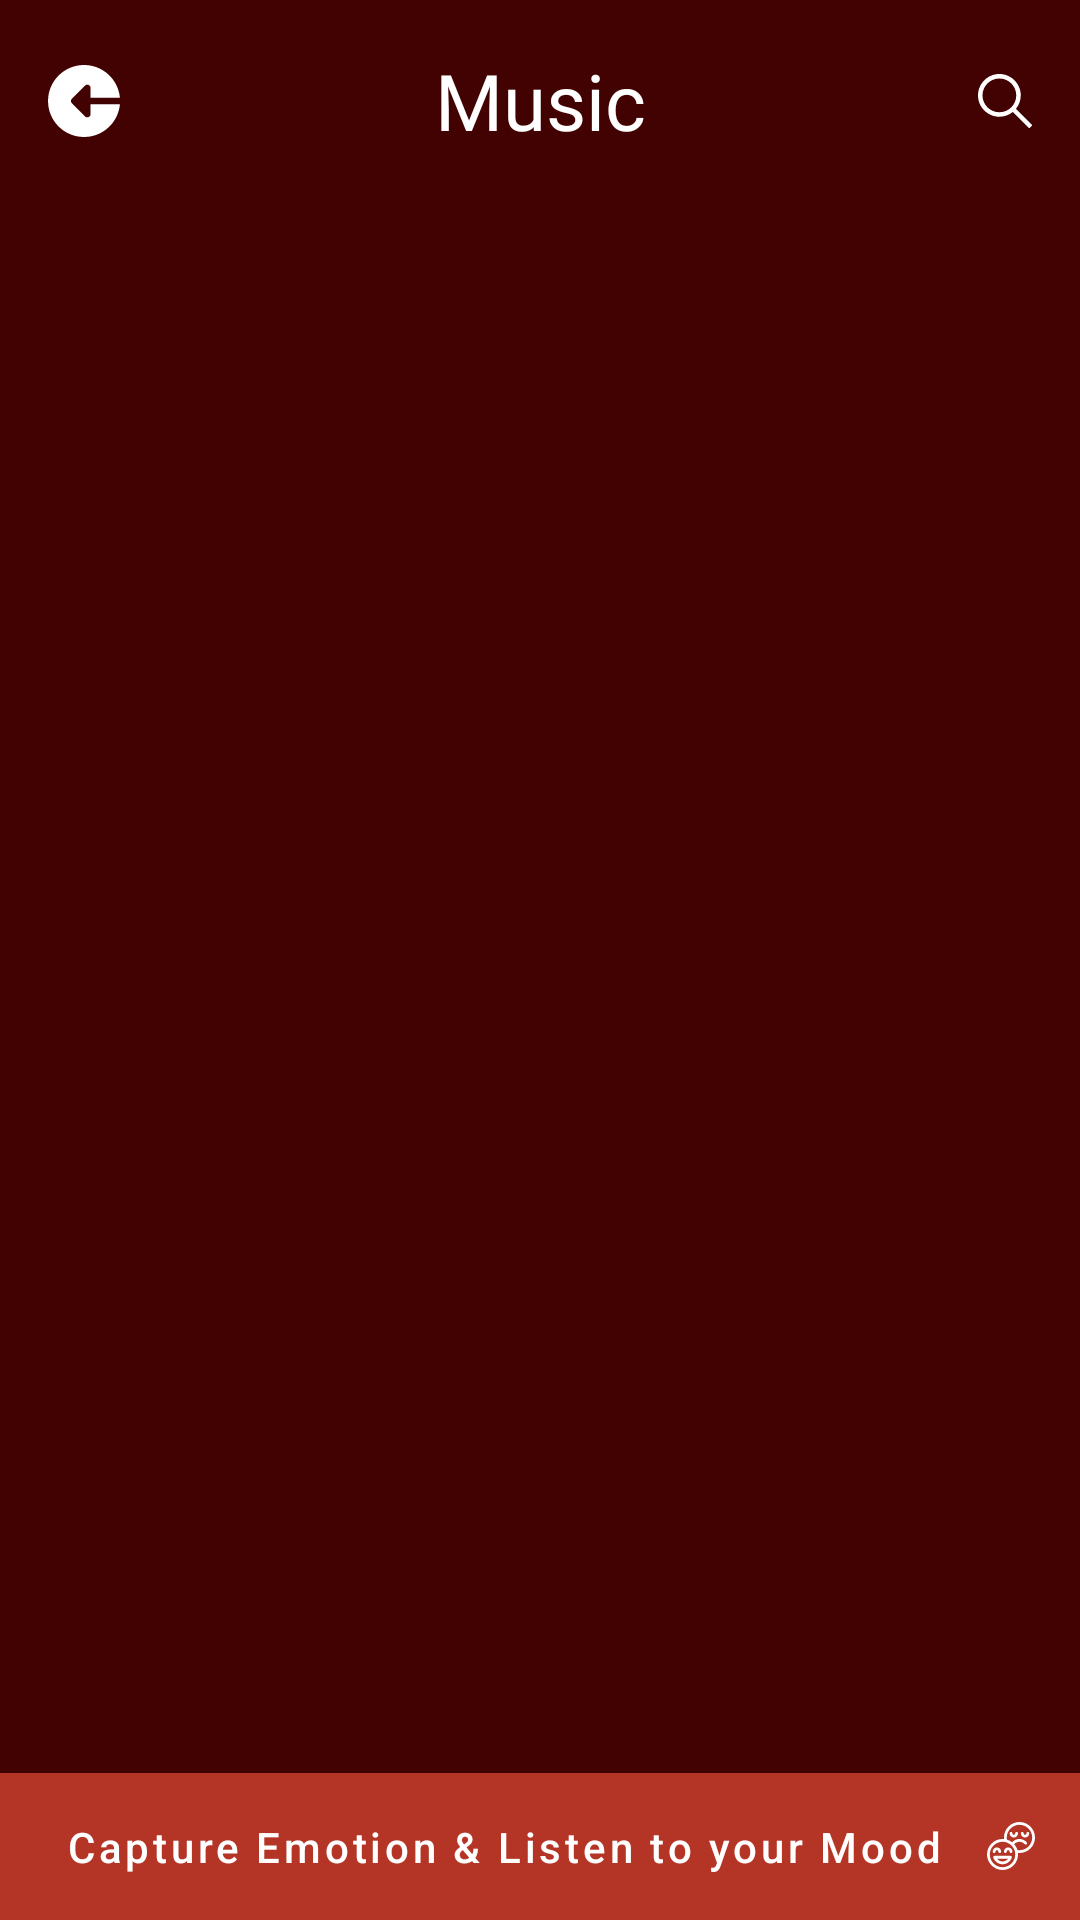

Icons on this 1080w x 1920h Android screen, each with the point to tap as (x=x, y=y):
search: (x=1005, y=101)
